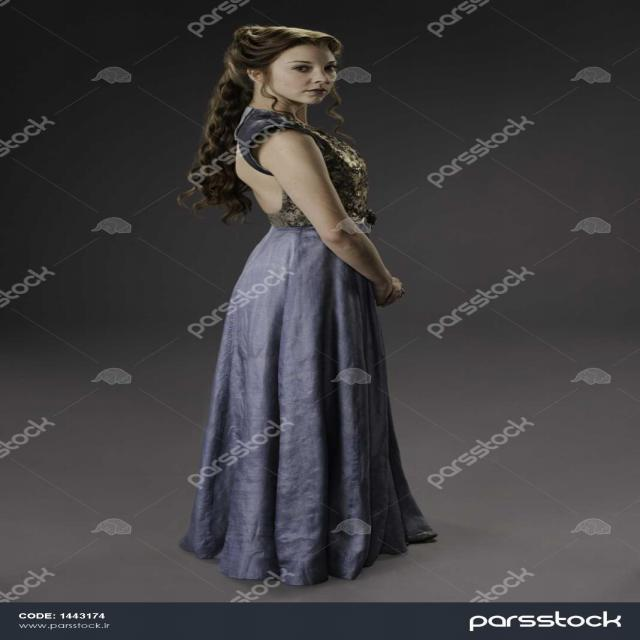clothes: (186, 107, 452, 601)
